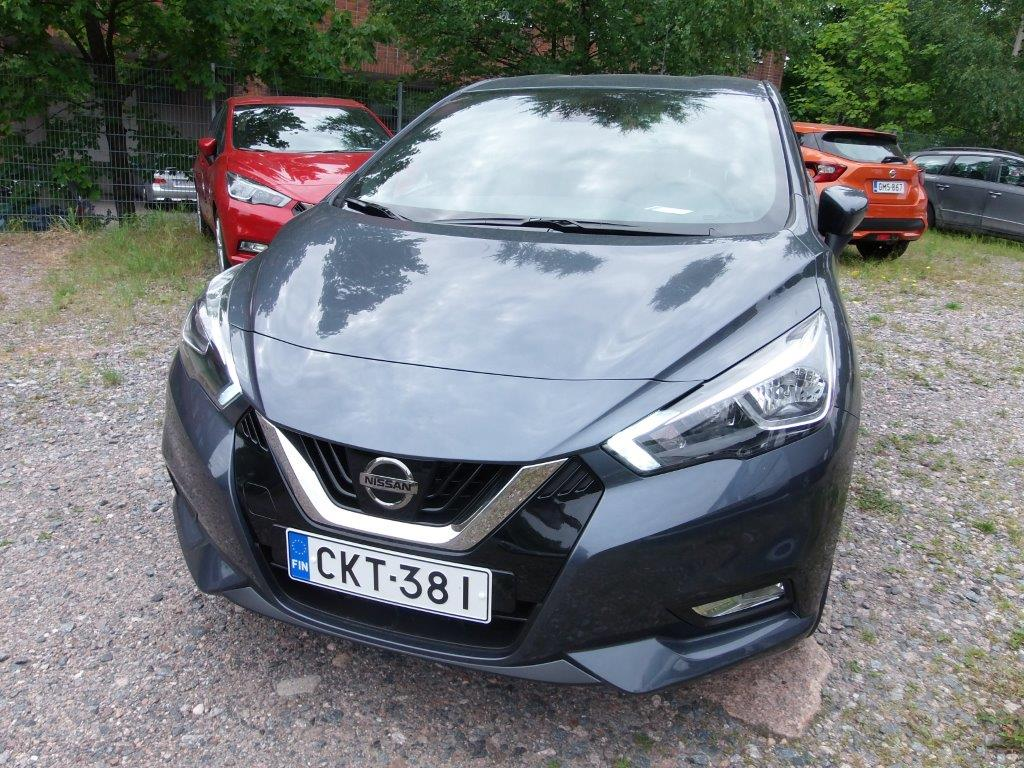license: (286, 526, 491, 625)
